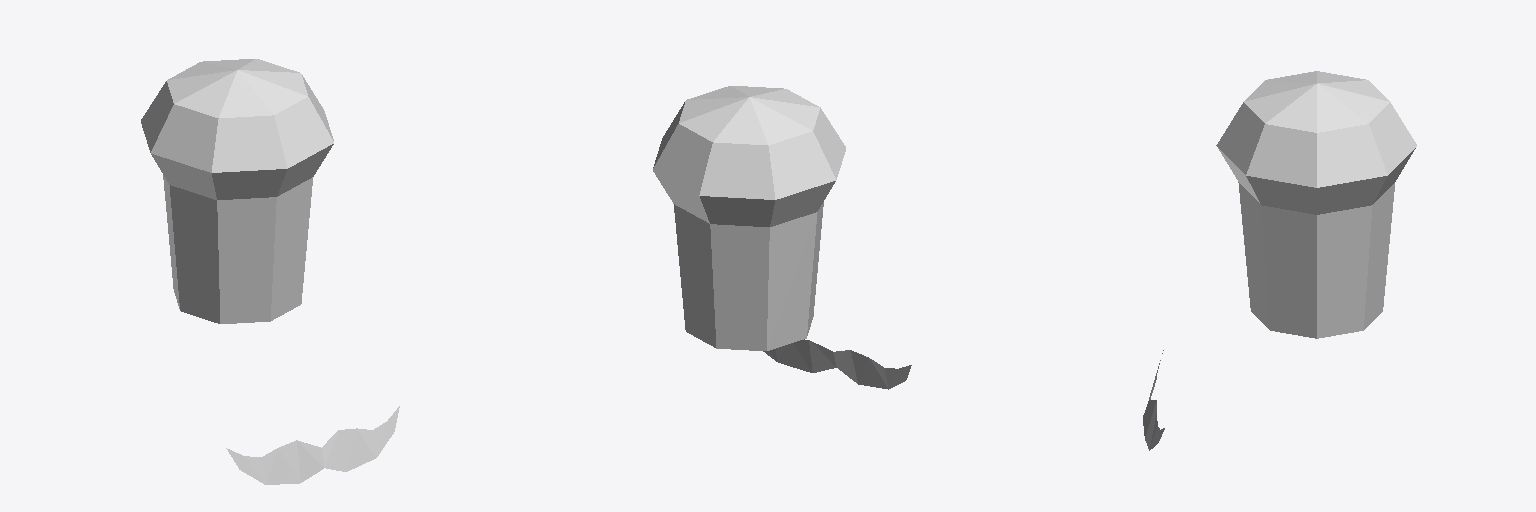
The model's file is enm_pawn_fct_Head.obj.
3 views of the same model, side by side, from view 1: azimuth 30°, elevation 25°; view 2: azimuth 150°, elevation 25°; view 3: azimuth 270°, elevation 25° (orthographic).
Parts seen in each view (by area): view 1: polygon0; view 2: polygon0; view 3: polygon0.
Boxes of the visible parts, x1,y1,x2,y2 form: polygon0: [141, 59, 399, 484]; polygon0: [653, 86, 911, 389]; polygon0: [1143, 71, 1416, 450].
Bounding box in the file's own units: 4.74 × 8.95 × 6.47.